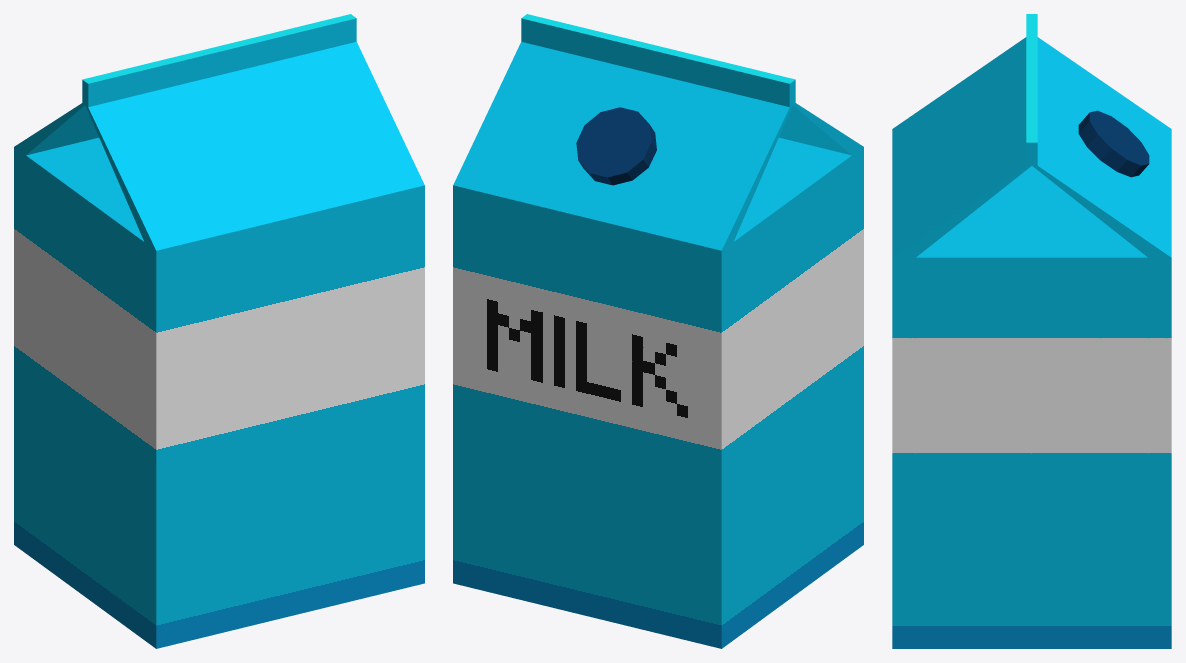
The model's file is milk.gltf.
3 renders of one model, left to right at view 1: azimuth 30°, elevation 25°; view 2: azimuth 150°, elevation 25°; view 3: azimuth 270°, elevation 25°, orthographic.
Parts seen in each view (by area): view 1: mesh; view 2: mesh, cylinder; view 3: mesh, cylinder.
Boxes of the visible parts, x1,y1,x2,y2 form: mesh: (14,14,424,648); mesh: (453,14,863,648); cylinder: (576,107,656,185); mesh: (892,14,1171,648); cylinder: (1078,110,1149,177).
Bounding box in the file's own units: 0.75 × 1.38 × 0.6875.
Materials: 1 (1 with a texture image).
